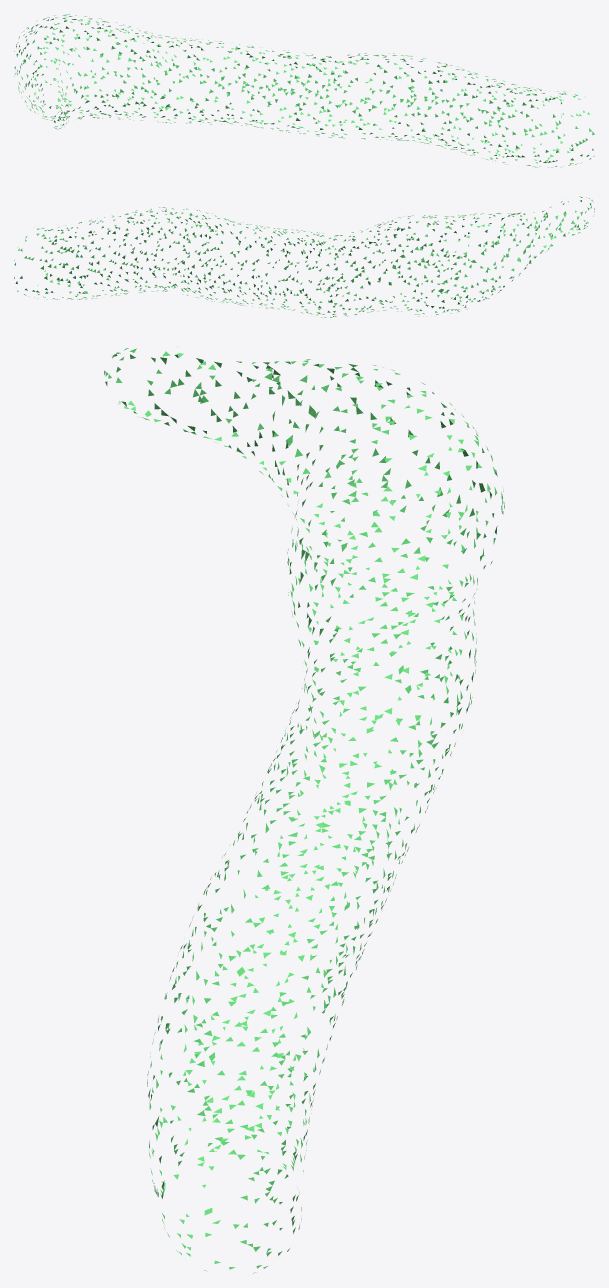
Rendered from morph_019.glb.
3 renders of one model, top to bottom at view 1: azimuth 30°, elevation 25°; view 2: azimuth 150°, elevation 25°; view 3: azimuth 270°, elevation 25°, orthographic. The views are drawn at different scales.
Bounding box in the file's own units: 108 × 42.01 × 34.99.
